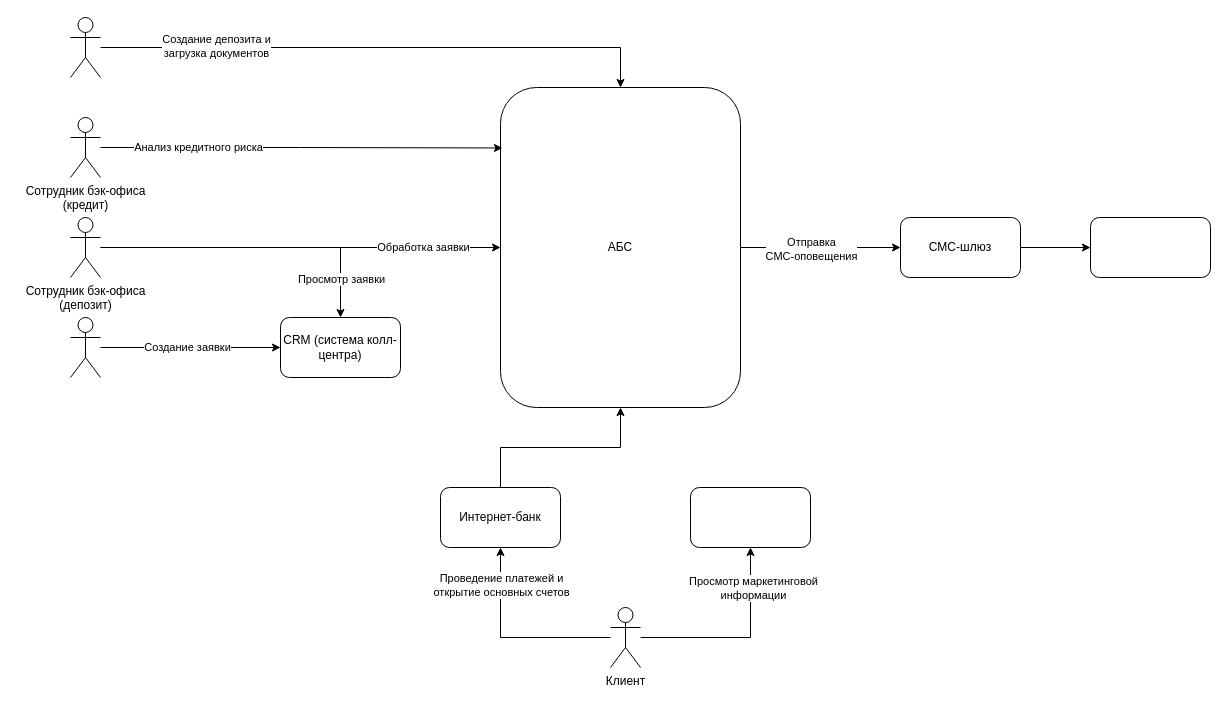
This 1228x706 diagram has some shape labels left out. The shapes that lost their labels are listed below. From the top down, each one's centre as x and y in pixels, then its label:
[85,47]: Сотрудник фронт-офиса
[1150,247]: Телеком оператор
[85,347]: Колл-центр
[750,517]: Сайт
